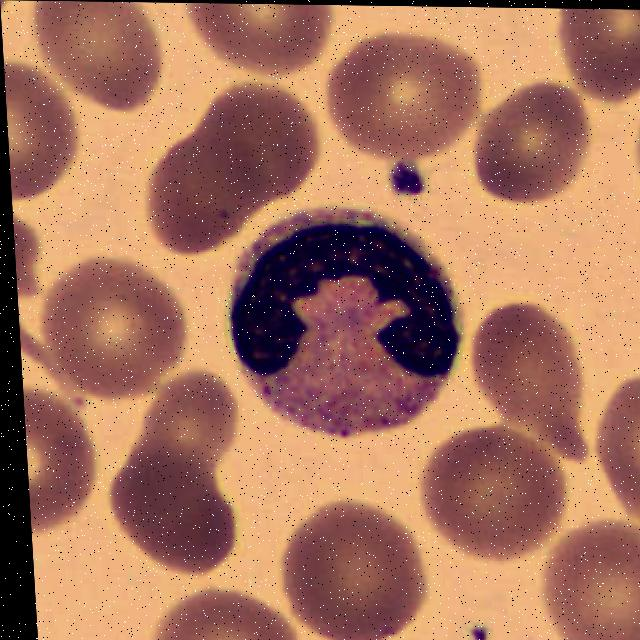neutrophil: (216, 200, 468, 438)
platelets: (375, 159, 433, 210)
rbc: (267, 485, 435, 640), (466, 285, 591, 479), (407, 415, 569, 558), (322, 36, 477, 175), (46, 259, 186, 408), (111, 456, 251, 596), (192, 82, 324, 210), (142, 112, 255, 255), (30, 1, 165, 111), (472, 91, 588, 206), (140, 367, 252, 485), (180, 3, 334, 78), (23, 390, 95, 546), (4, 64, 84, 203), (546, 523, 640, 640), (150, 582, 309, 640), (536, 8, 640, 95), (593, 358, 640, 537), (615, 92, 640, 234)
